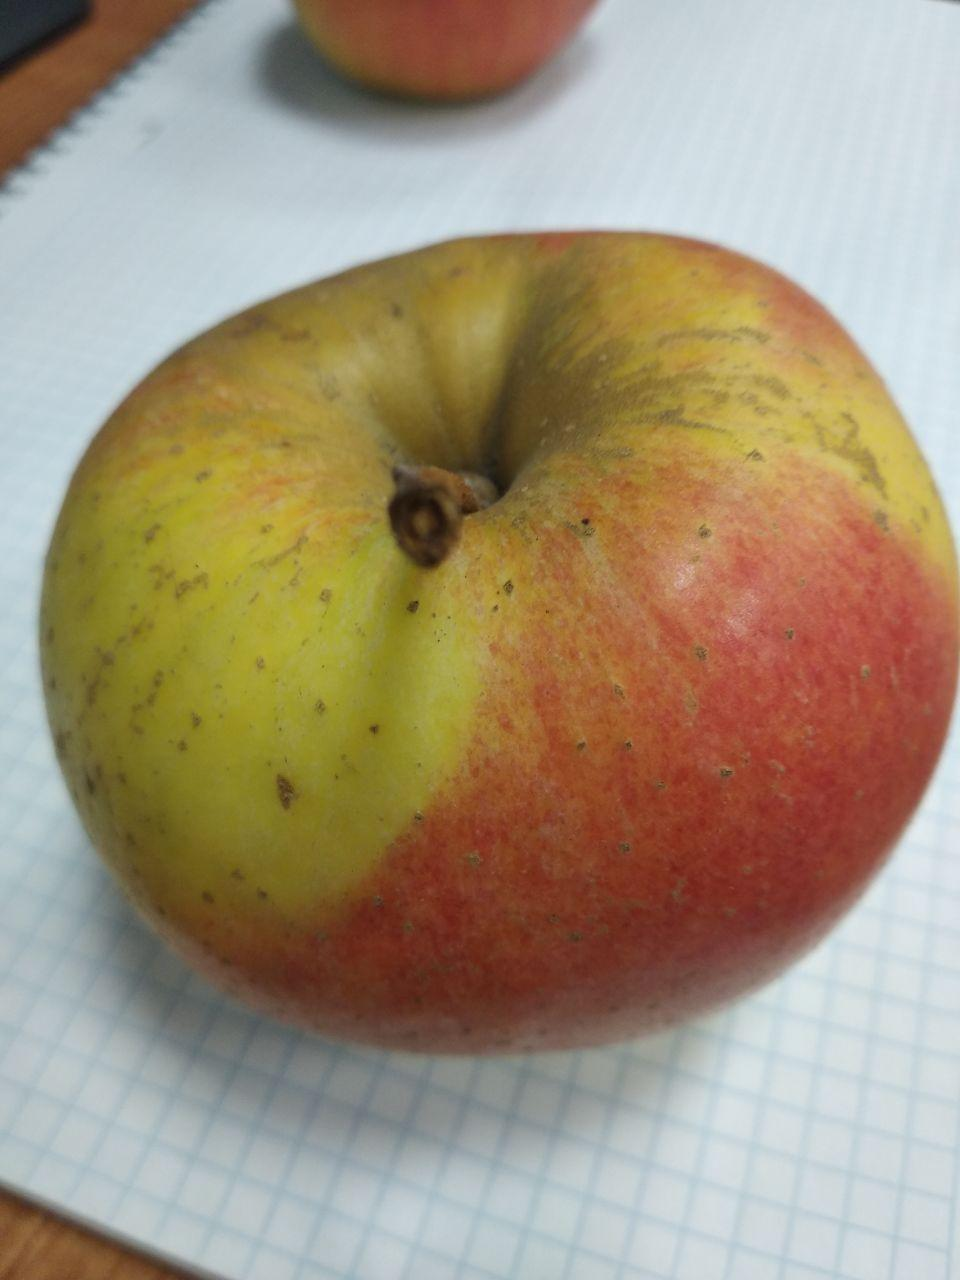Apple: (41, 230, 941, 1053)
